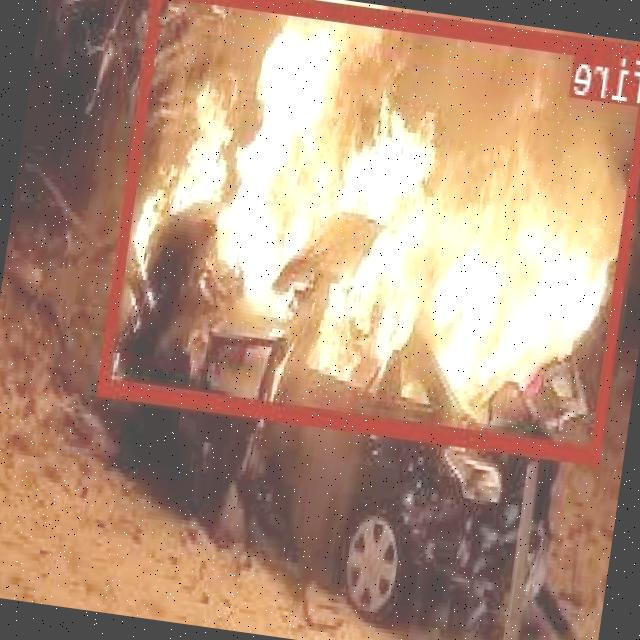fire: (101, 0, 640, 461)
